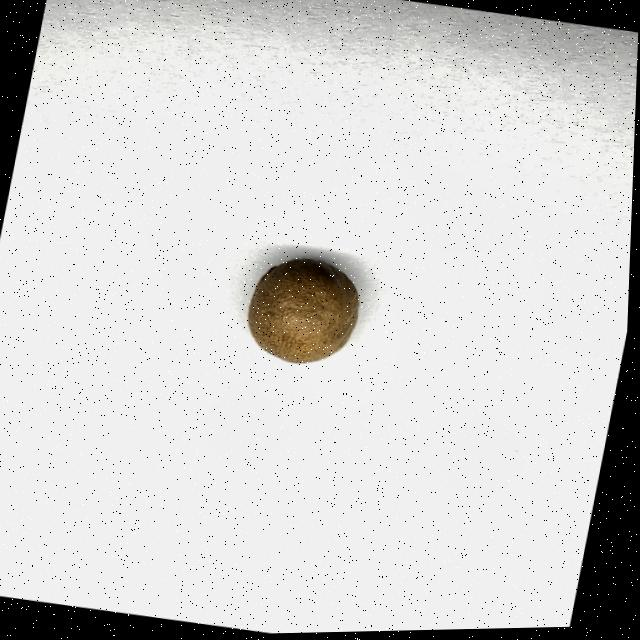Quaker: (241, 253, 372, 374)
